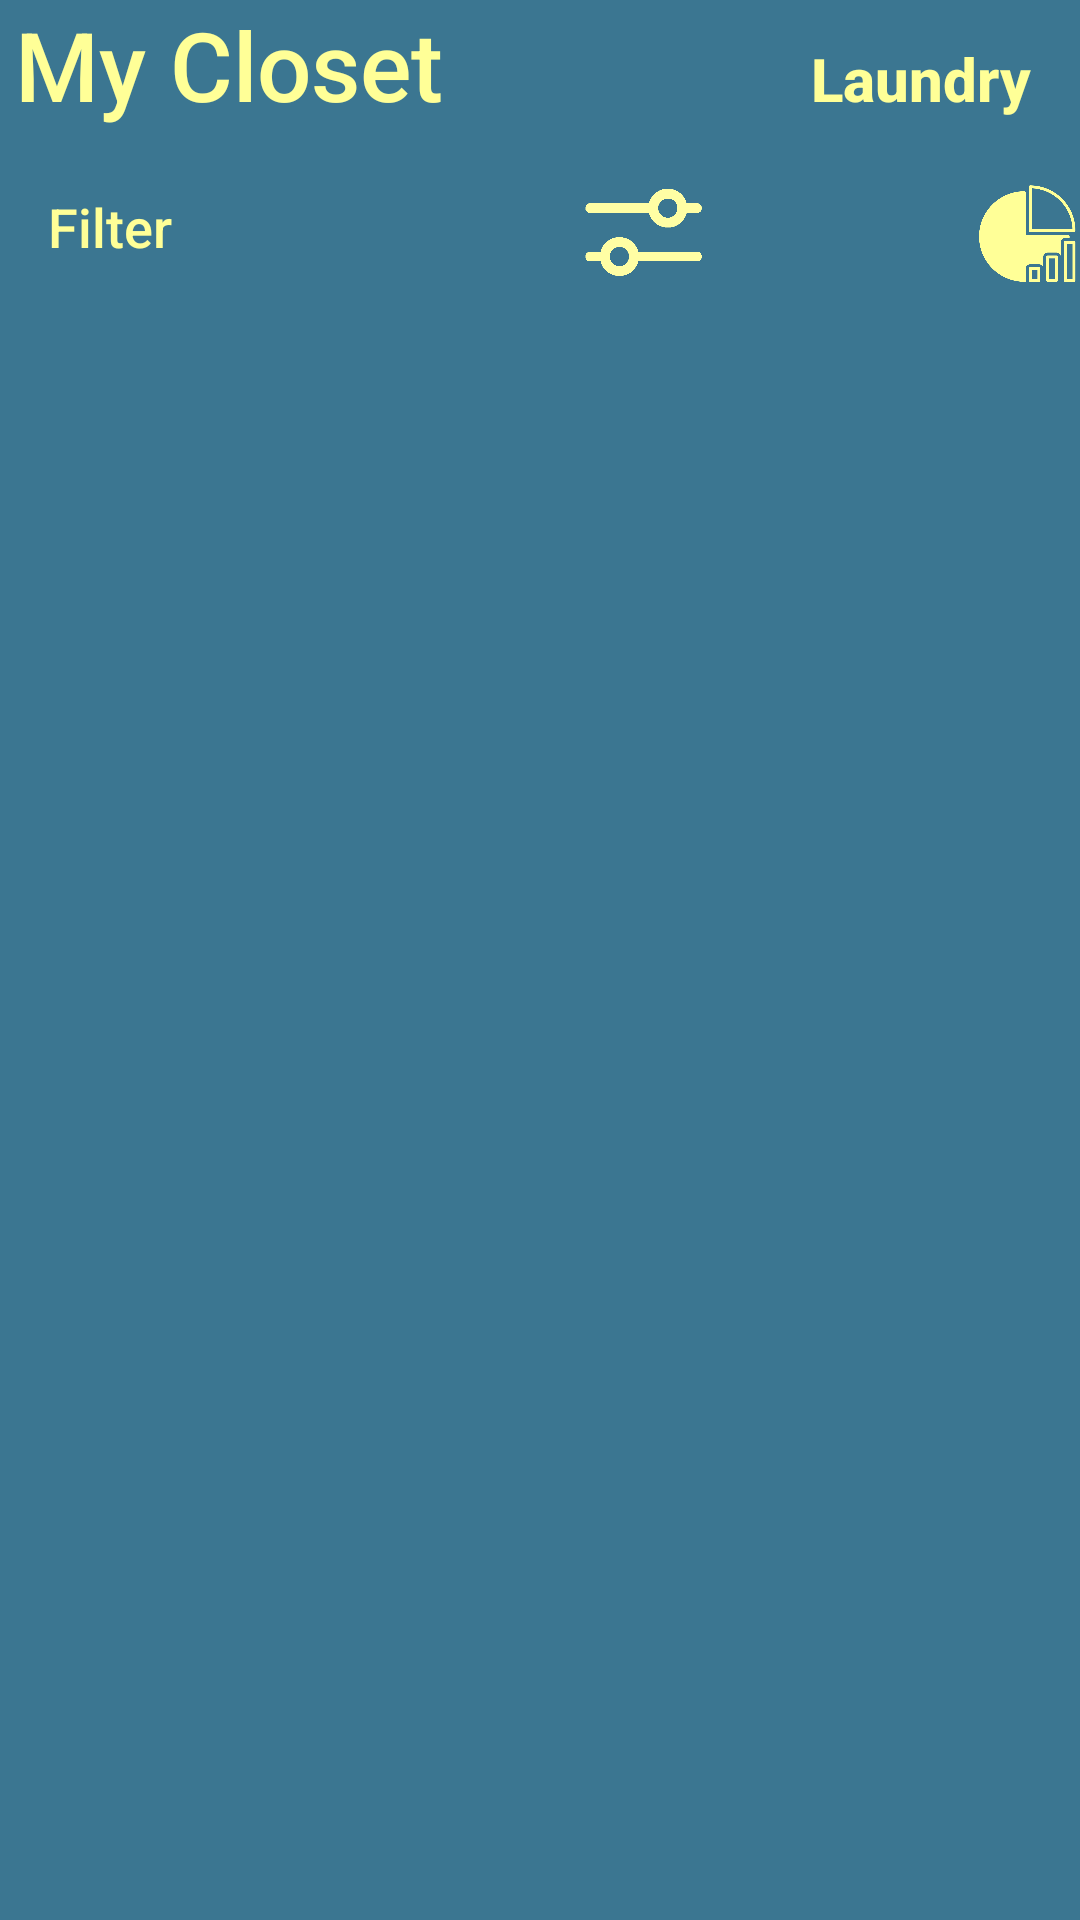

Icon click points for this 1080x1920 phone screenshot, format [x,y]:
chart: [1027,233]
